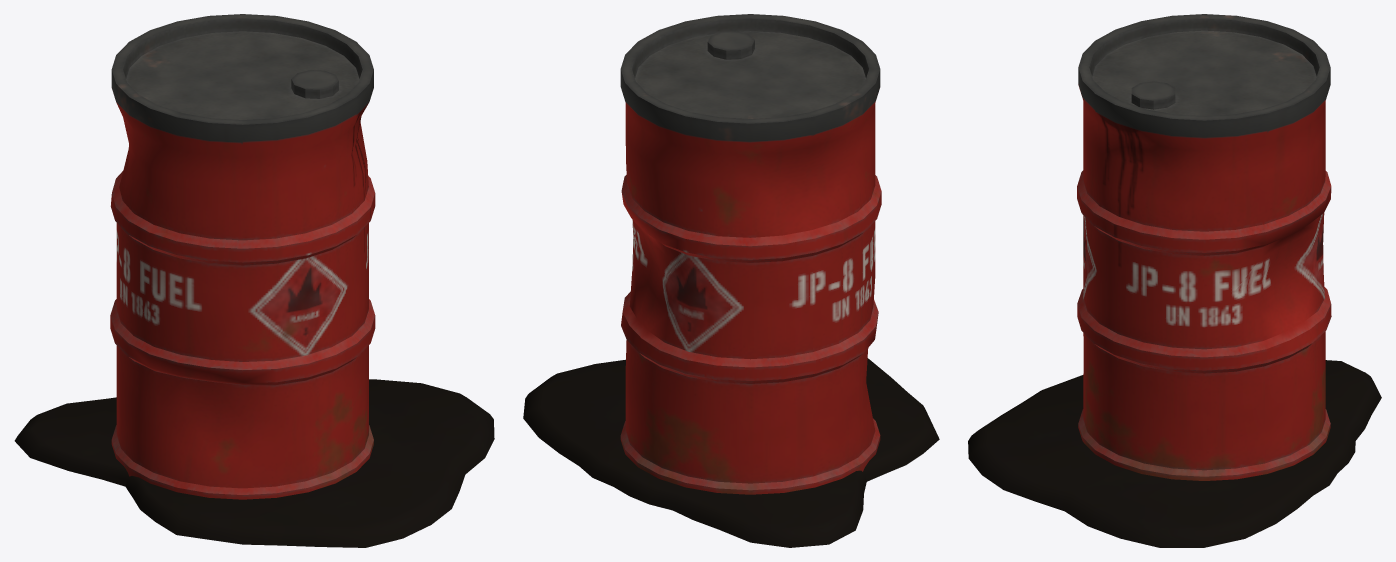
File: W2_FireBarrel.fbx
3 views of the same model, side by side, from view 1: azimuth 30°, elevation 25°; view 2: azimuth 150°, elevation 25°; view 3: azimuth 270°, elevation 25° (orthographic). The views are drawn at different scales.
Parts seen in each view (by area): view 1: W2_FireBarrel__W2_FireBarrel, W2_FireBarrel__W2_FireBarrel_Puddle; view 2: W2_FireBarrel__W2_FireBarrel, W2_FireBarrel__W2_FireBarrel_Puddle; view 3: W2_FireBarrel__W2_FireBarrel, W2_FireBarrel__W2_FireBarrel_Puddle.
Part boxes in pixels (box(x1,y1,x2,y2)): W2_FireBarrel__W2_FireBarrel: box(110, 14, 375, 499); W2_FireBarrel__W2_FireBarrel_Puddle: box(14, 379, 494, 547); W2_FireBarrel__W2_FireBarrel: box(620, 14, 881, 494); W2_FireBarrel__W2_FireBarrel_Puddle: box(523, 358, 939, 547); W2_FireBarrel__W2_FireBarrel: box(1077, 14, 1331, 480); W2_FireBarrel__W2_FireBarrel_Puddle: box(968, 360, 1381, 547).
Bounding box in the file's own units: 355 × 340 × 341.
1 material, 1 textured.
